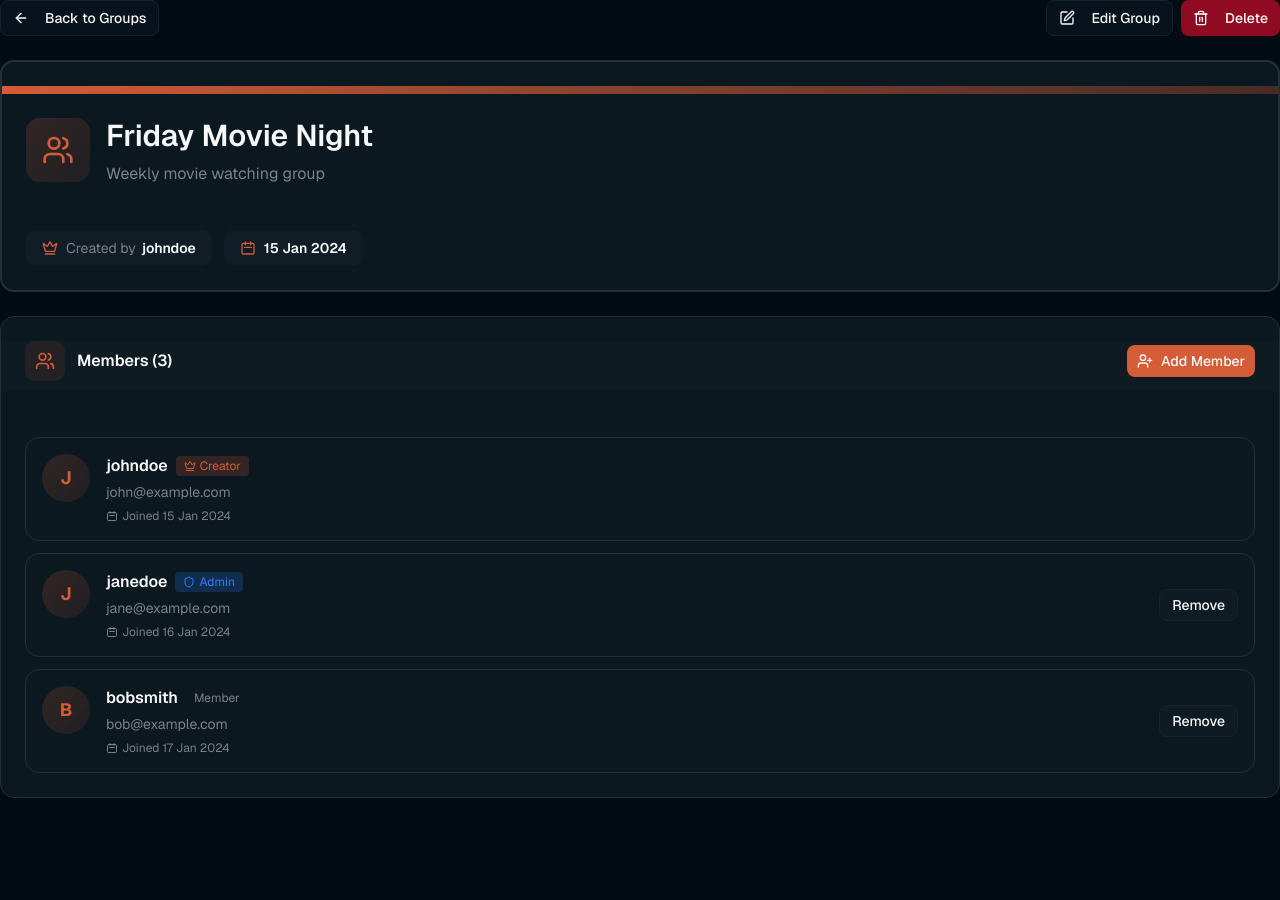
Test: GroupDetail › closes delete dialog on cancel
expect the text "Friday Movie Night" is shown: met, box [106,116,373,155]
Click the button "Delete".
click(1230, 18)  # box [1181,0,1279,36]
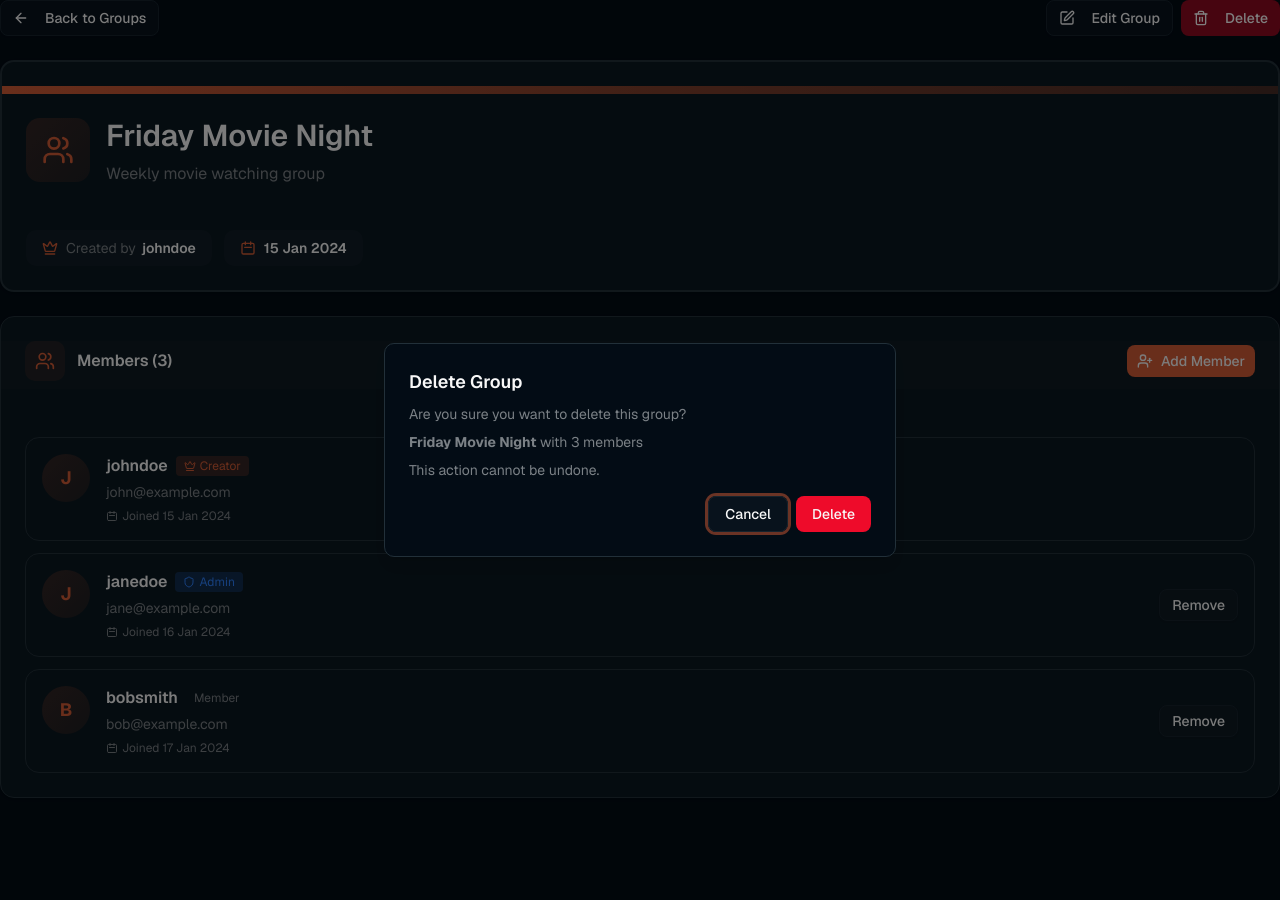
expect the heading "Delete Group" is shown: met, box [409,370,522,393]
Click the button "Cancel".
click(748, 514)  # box [708,496,788,532]
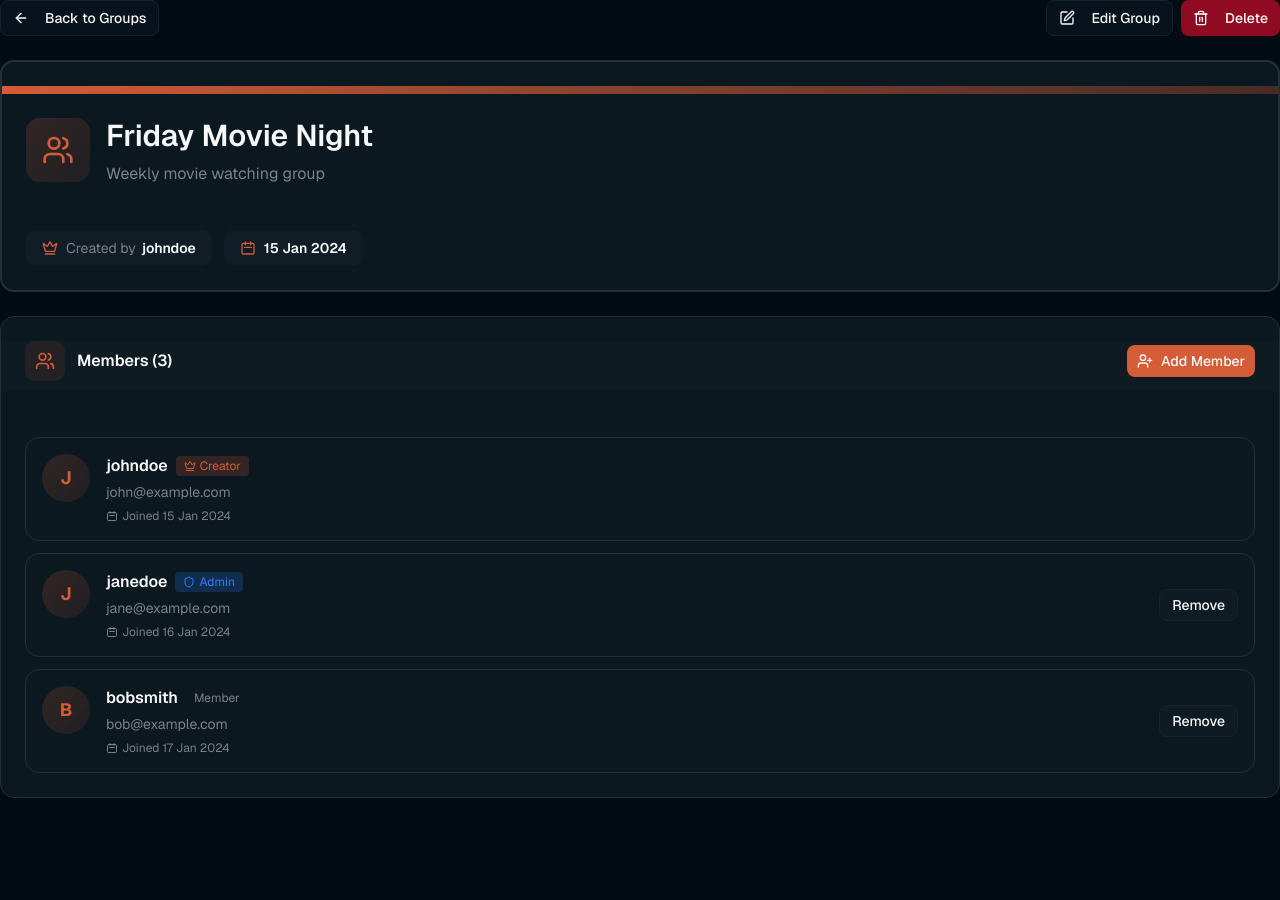
expect the heading "Delete Group" is gone: met
